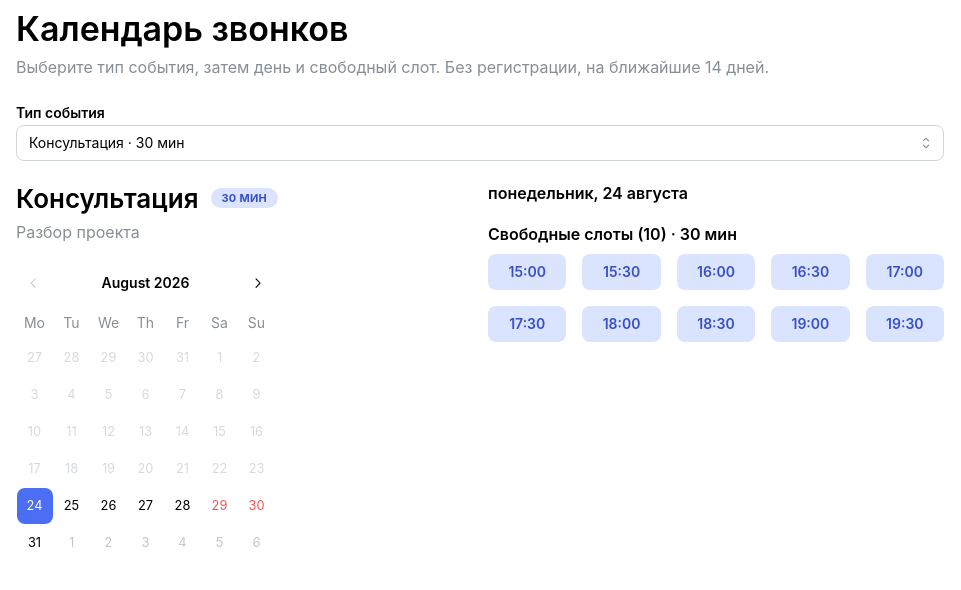
Test: BookingPage (гость: тип события → календарь → слоты) › отмечает занятые слоты отдельной секцией
expect the heading "Консультация" is shown: met, box [16, 181, 198, 216]
Click the button named "2026-08-25" at (72, 506), box [54, 488, 90, 524]
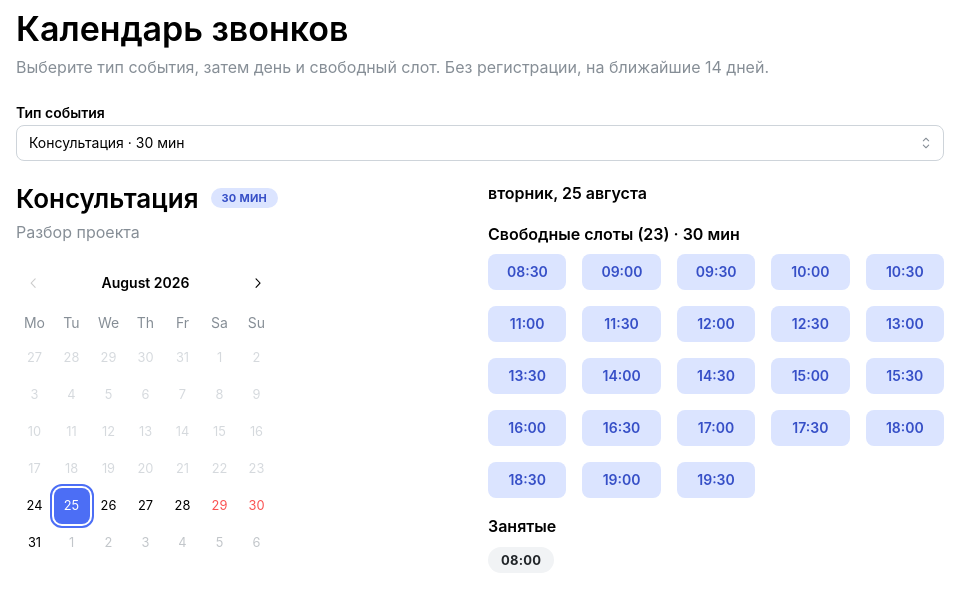
expect the text "Занятые" is shown: met, box [488, 516, 556, 536]
expect the text "Свободные слоты (23) · 30 мин" is shown: met, box [488, 224, 740, 244]
